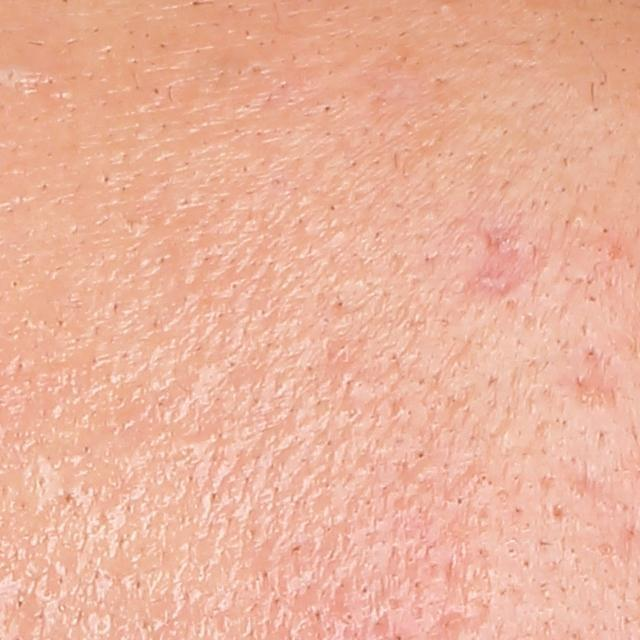atrophic_scar: (467, 226, 558, 311), (561, 367, 612, 410)
